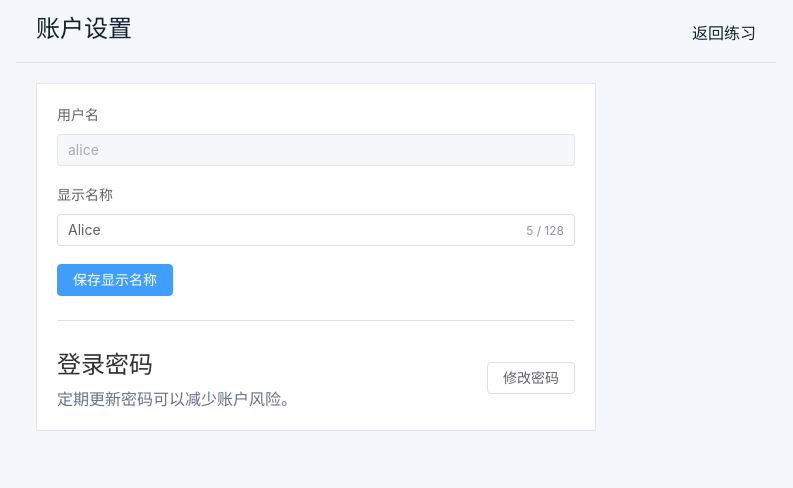
Test: ProfileView › surfaces profile errors as an alert
Click the button "保存显示名称": (115, 280) top-left (57, 264), bottom-right (173, 296)
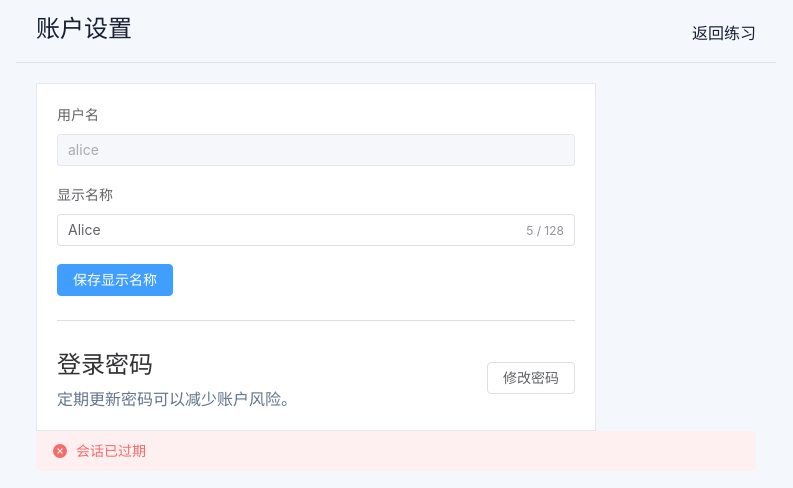
Now the text "会话已过期" is shown, box top-left (76, 439), bottom-right (146, 463)
